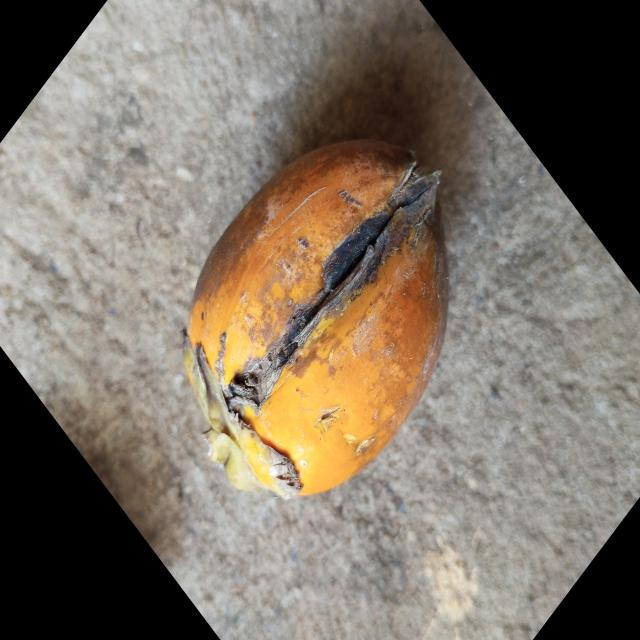damaged: (185, 140, 447, 498)
